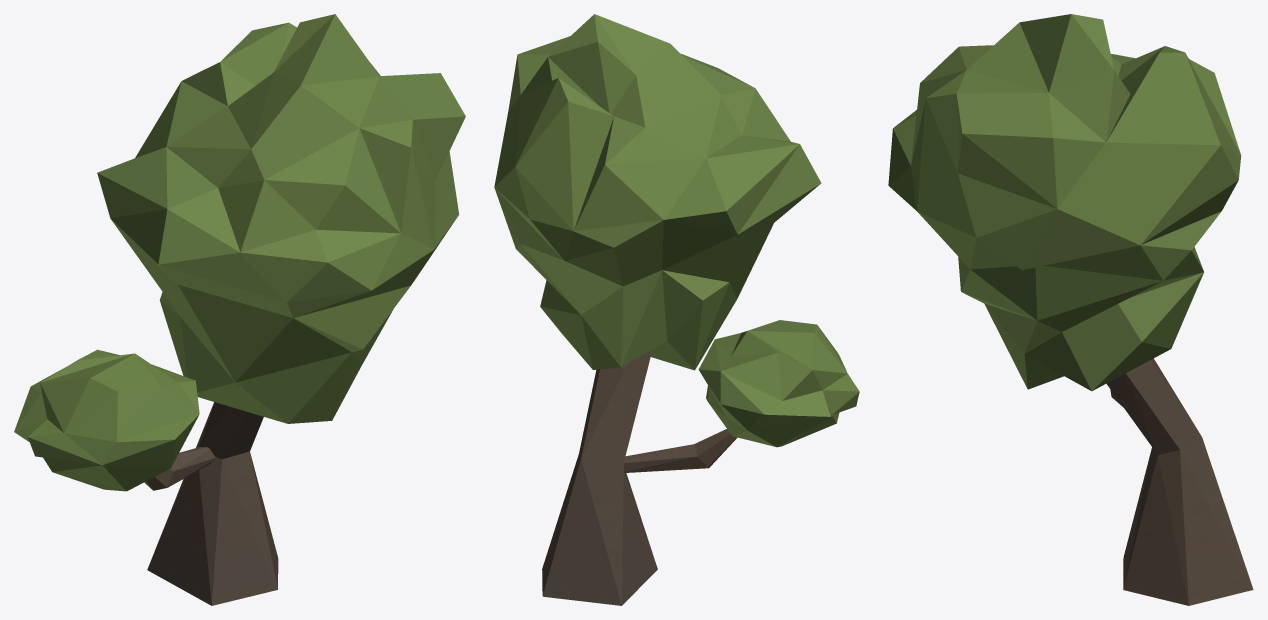
The model's file is SM_Tree_2.FBX.
3 views of the same model, side by side, from view 1: azimuth 30°, elevation 25°; view 2: azimuth 150°, elevation 25°; view 3: azimuth 270°, elevation 25° (orthographic). The views are drawn at different scales.
Visible parts, largest first — view 1: SM_Tree_2; view 2: SM_Tree_2; view 3: SM_Tree_2.
Boxes of the visible parts, bbox=[...] form: SM_Tree_2: bbox=[14, 14, 465, 605]; SM_Tree_2: bbox=[494, 14, 859, 605]; SM_Tree_2: bbox=[888, 14, 1253, 605].
Size of what is drawn, in the model's own units: 496 by 381 by 681.
